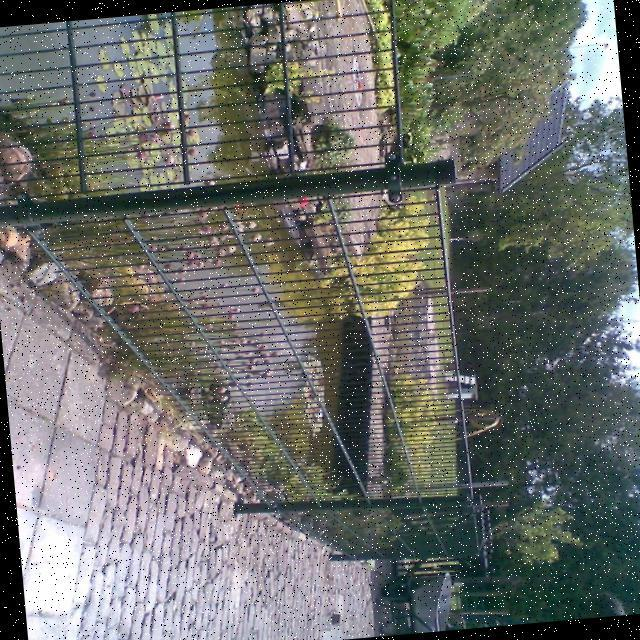fence line: (2, 2, 422, 355), (160, 155, 474, 515), (269, 467, 481, 572)
